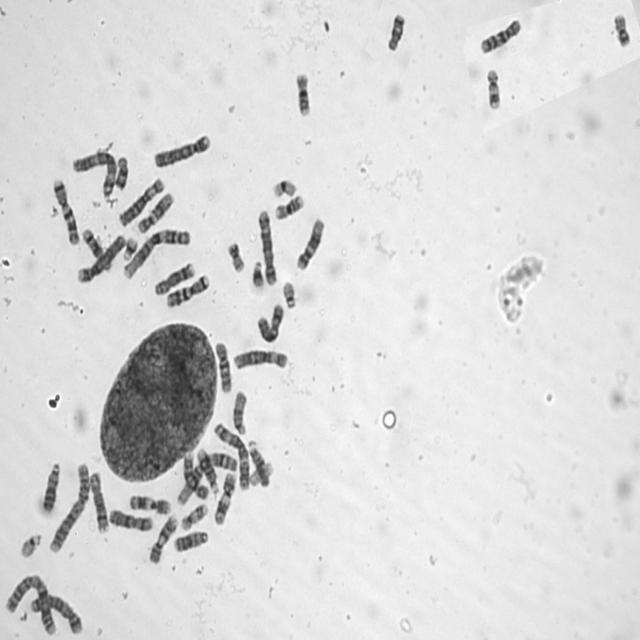A1: (174, 448, 238, 507), (121, 227, 192, 280)
A2: (47, 458, 92, 555), (4, 570, 59, 637)
A3: (212, 418, 252, 494), (70, 147, 118, 199)
B4: (75, 231, 127, 285), (151, 130, 213, 170)
B5: (27, 591, 84, 635), (255, 207, 278, 288)
C10: (477, 14, 523, 56), (212, 338, 234, 397)
C11: (211, 469, 237, 526), (127, 491, 172, 515)
C12: (294, 214, 326, 272), (135, 189, 175, 235)
C6: (117, 174, 165, 228), (231, 345, 290, 373)
C7: (50, 174, 81, 247), (164, 271, 211, 309)
C8: (152, 259, 197, 296), (87, 468, 110, 534)
C9: (147, 511, 179, 566), (182, 452, 210, 502)
D13: (39, 458, 62, 514), (172, 527, 209, 554)
D14: (80, 224, 113, 273), (195, 446, 220, 496)
D15: (244, 436, 272, 488), (230, 388, 249, 437)
E16: (292, 68, 312, 119), (272, 192, 306, 222)
E17: (179, 501, 209, 532), (483, 65, 502, 112)
E18: (383, 9, 407, 55), (114, 153, 130, 192)
F19: (246, 458, 275, 488), (270, 175, 298, 199)
F20: (611, 10, 632, 50), (225, 238, 246, 274)
G21: (249, 257, 266, 290), (120, 234, 138, 263)
G22: (17, 530, 44, 560), (280, 277, 298, 310)
X: (254, 299, 286, 345), (106, 506, 154, 532)
